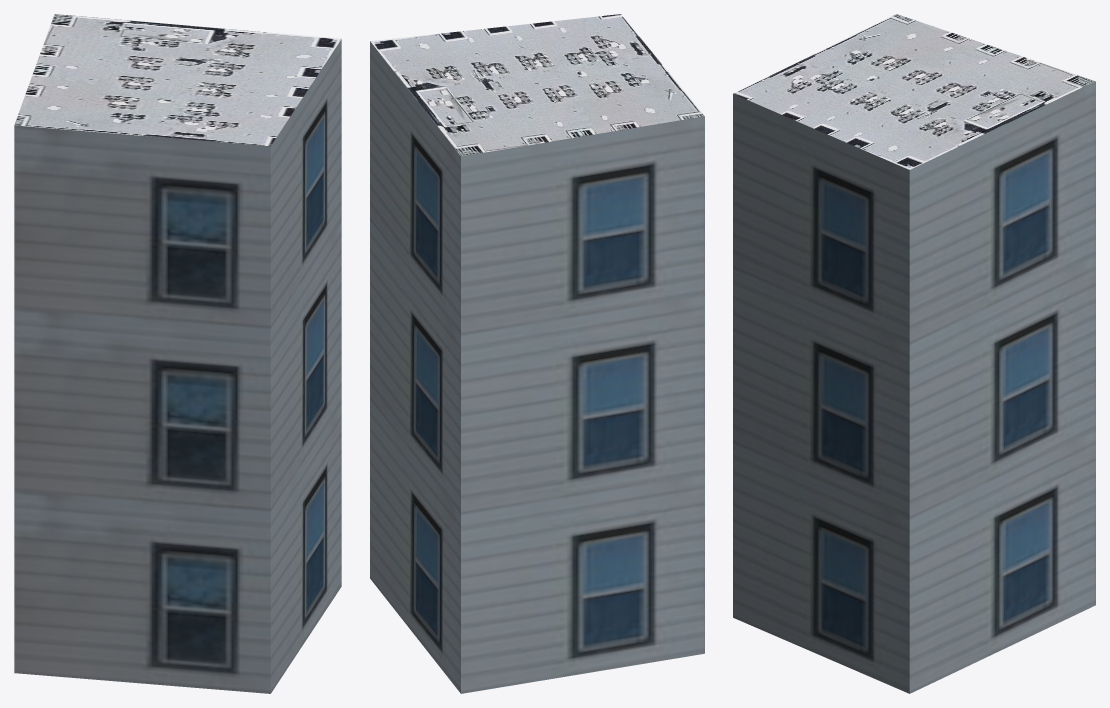
Rendered from ResTex__2742.fbx.
3 renders of one model, left to right at view 1: azimuth 30°, elevation 25°; view 2: azimuth 150°, elevation 25°; view 3: azimuth 270°, elevation 25°, orthographic. The views are drawn at different scales.
Visible parts, largest first — view 1: CityEngineMaterial_18_m, CityEngineMaterial_8_m; view 2: CityEngineMaterial_18_m, CityEngineMaterial_8_m; view 3: CityEngineMaterial_18_m, CityEngineMaterial_8_m.
Part boxes in pixels (x1,y1,x2,y2): CityEngineMaterial_18_m: (14, 39, 341, 693); CityEngineMaterial_8_m: (14, 14, 341, 146); CityEngineMaterial_18_m: (370, 41, 704, 693); CityEngineMaterial_8_m: (370, 14, 704, 156); CityEngineMaterial_18_m: (733, 81, 1095, 693); CityEngineMaterial_8_m: (733, 14, 1095, 169).
Size of the model in its own units: 5.75 by 9 by 5.65.
Materials: 2 (2 with a texture image).
